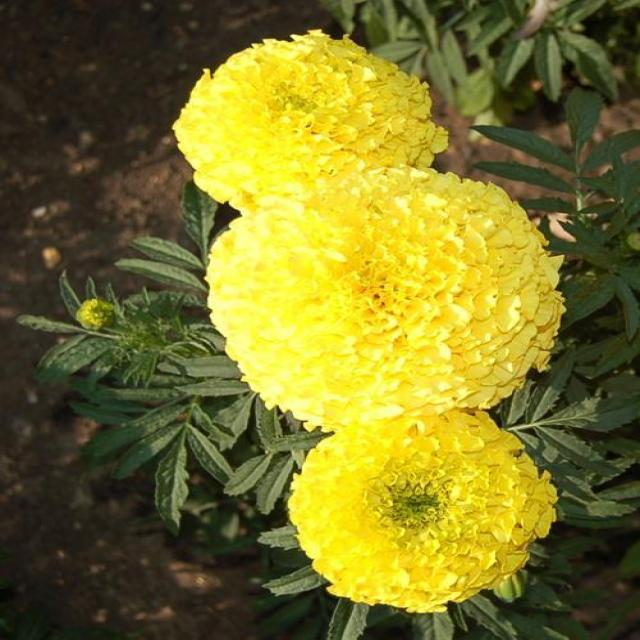marigold: (113, 16, 640, 639)
